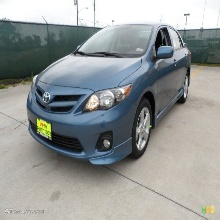no damage: (26, 24, 191, 167)
